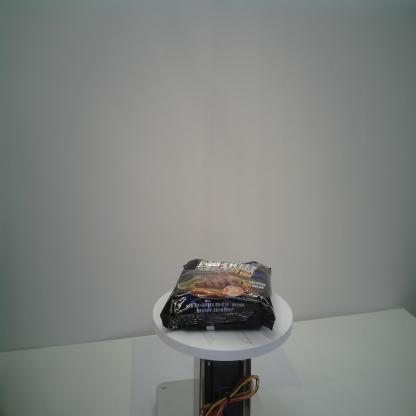Instant Noodles: (160, 258, 276, 332)
